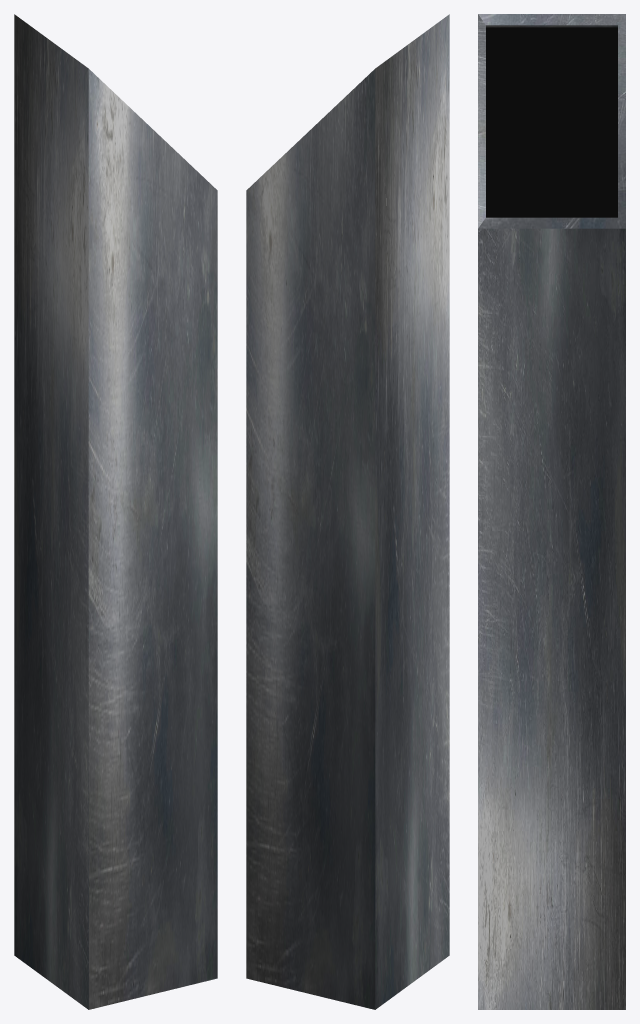
Rendered from Badgatrice2.fbx.
The picture shows the model from 3 angles, left to right: view 1: azimuth 30°, elevation 25°; view 2: azimuth 150°, elevation 25°; view 3: azimuth 270°, elevation 25°; orthographic projection.
Parts seen in each view (by area): view 1: Cube; view 2: Cube; view 3: Cube.
Part boxes in pixels (left/top/right/bottom): Cube: left=14, top=14, right=217, bottom=1009; Cube: left=246, top=14, right=449, bottom=1009; Cube: left=478, top=14, right=625, bottom=1009.
Bounding box in the file's own units: 20 × 139 × 20.
2 materials, 1 textured.
